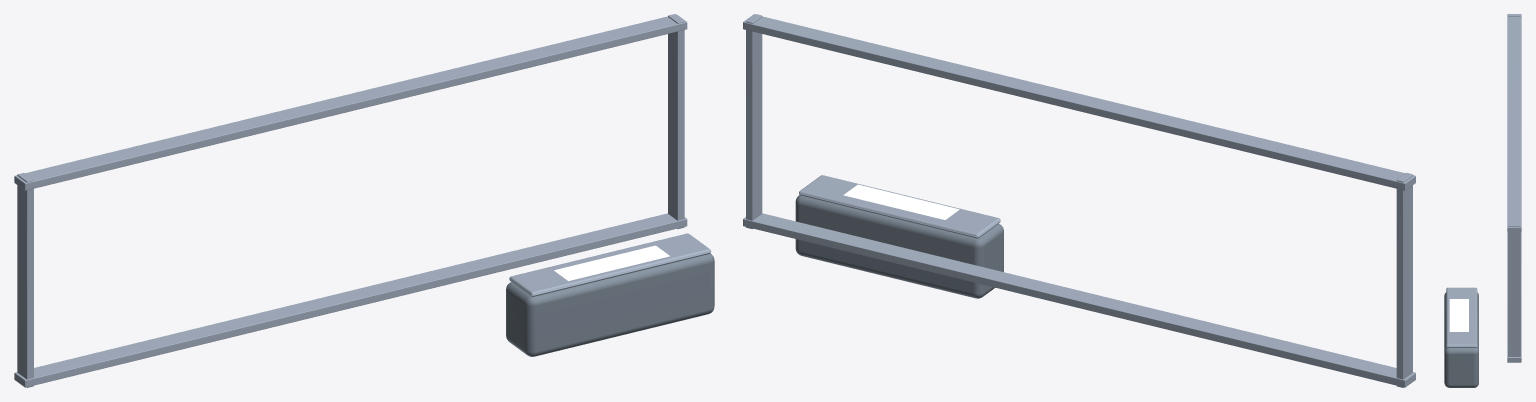
Rendered from north.glb.
3 views of the same model, side by side, from view 1: azimuth 30°, elevation 25°; view 2: azimuth 150°, elevation 25°; view 3: azimuth 270°, elevation 25° (orthographic). The views are drawn at different scales.
Parts seen in each view (by area): view 1: orbital-observation-deck north; view 2: orbital-observation-deck north; view 3: orbital-observation-deck north.
Part boxes in pixels (<box>): orbital-observation-deck north: <box>14,14,714,387</box>; orbital-observation-deck north: <box>743,14,1415,387</box>; orbital-observation-deck north: <box>1444,14,1521,387</box>.
Size of the model in its own units: 8.45 by 3.11 by 1.29.
